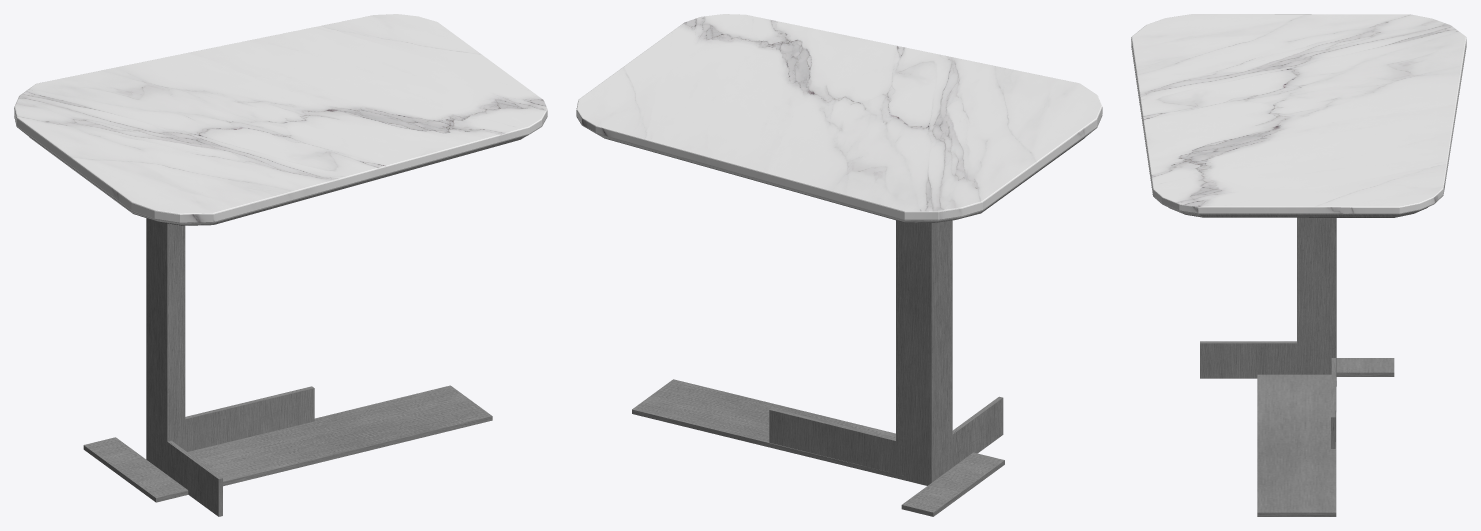
Rendered from SBH_Surefooted_A.glb.
The picture shows the model from 3 angles, left to right: view 1: azimuth 30°, elevation 25°; view 2: azimuth 150°, elevation 25°; view 3: azimuth 270°, elevation 25°; orthographic projection. The views are drawn at different scales.
Visible parts, largest first — view 1: Surefooted_A; view 2: Surefooted_A; view 3: Surefooted_A.
Boxes of the visible parts, x1,y1,x2,y2 form: Surefooted_A: [14, 14, 547, 516]; Surefooted_A: [576, 14, 1102, 516]; Surefooted_A: [1131, 14, 1466, 516].
Size of the model in its own units: 0.425 by 0.332 by 0.3143.
2 materials, 2 textured.
